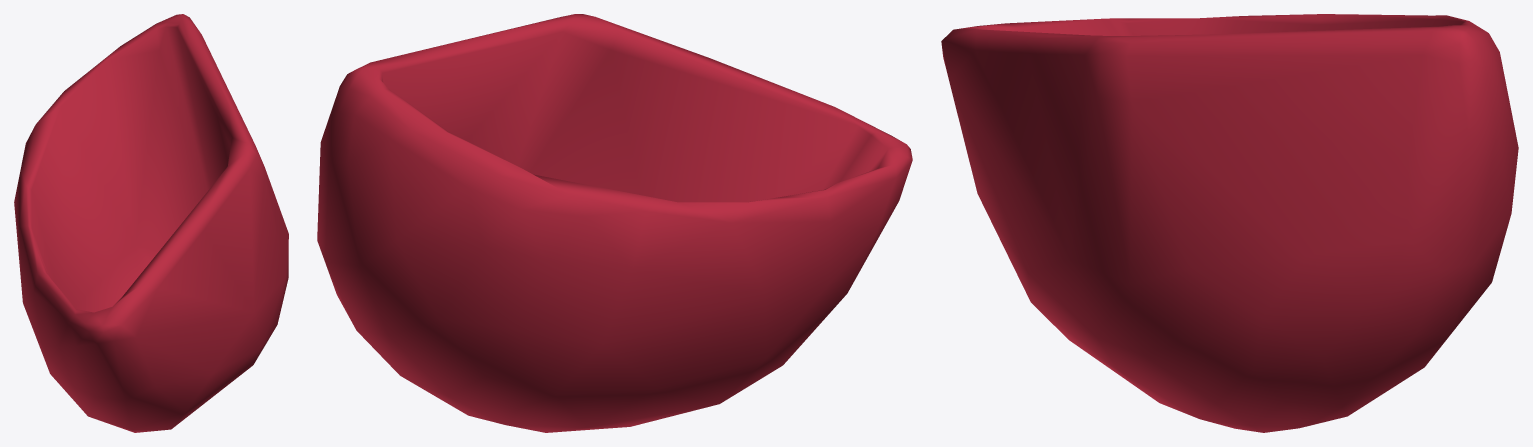
Rendered from non-coronary-leaflet.glb.
3 views of the same model, side by side, from view 1: azimuth 30°, elevation 25°; view 2: azimuth 150°, elevation 25°; view 3: azimuth 270°, elevation 25° (orthographic). The views are drawn at different scales.
Parts seen in each view (by area): view 1: Non-coronary leaflet; view 2: Non-coronary leaflet; view 3: Non-coronary leaflet.
Boxes of the visible parts, <box> form: Non-coronary leaflet: <box>14,14,288,432</box>; Non-coronary leaflet: <box>317,14,912,432</box>; Non-coronary leaflet: <box>941,14,1518,432</box>.
Size of the model in its own units: 0.0173 by 0.0165 by 0.0191.
